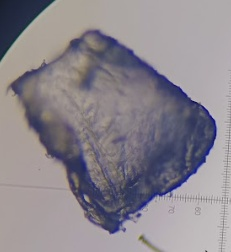microplastic: (7, 28, 219, 236), (136, 234, 165, 252)
